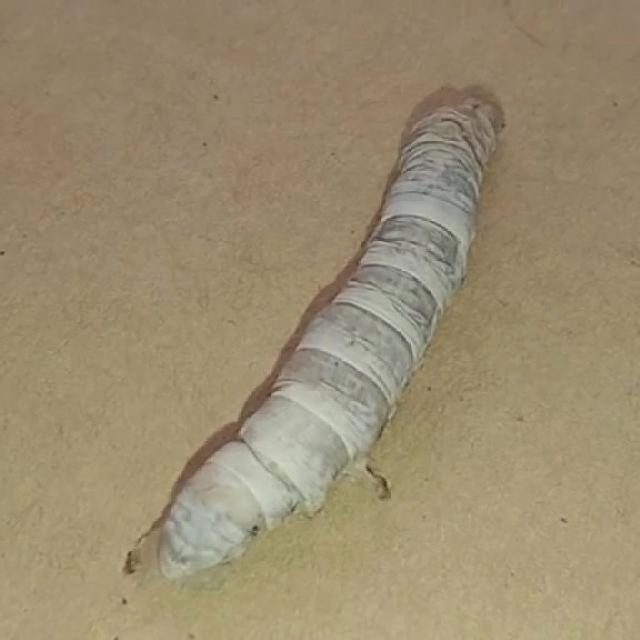Grasserie: (101, 50, 552, 619)
